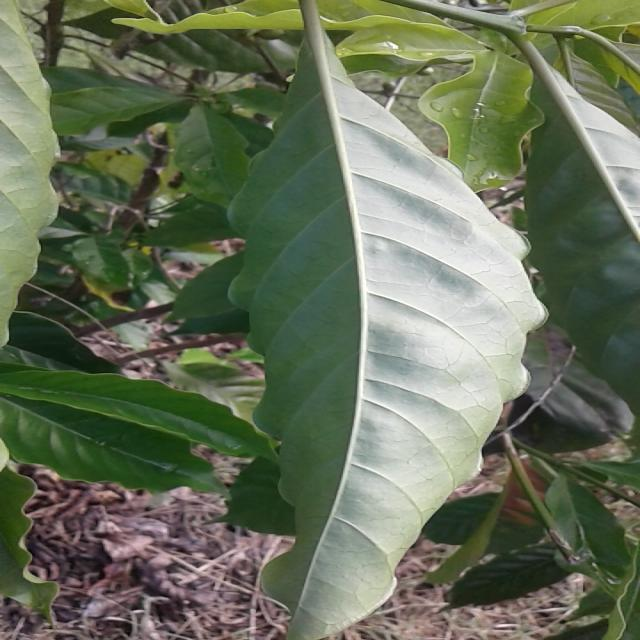Sanas: (228, 0, 608, 640)
